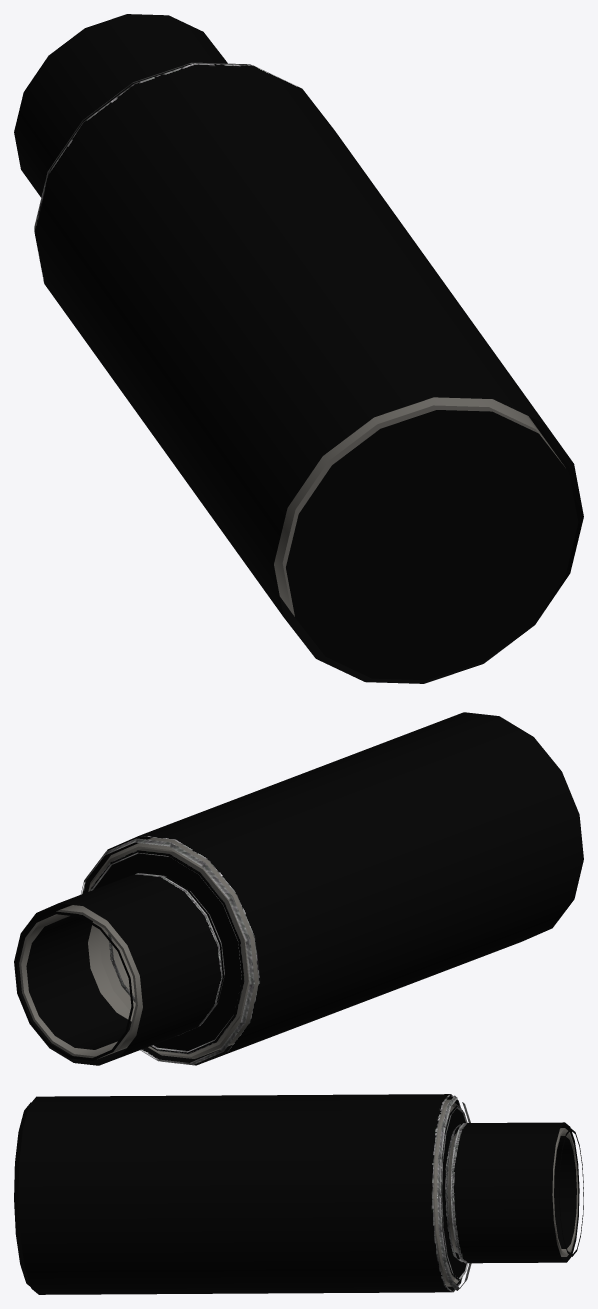
File: exhaust.obj
The picture shows the model from 3 angles, top to bottom: view 1: azimuth 30°, elevation 25°; view 2: azimuth 150°, elevation 25°; view 3: azimuth 270°, elevation 25°; orthographic projection. The views are drawn at different scales.
Visible parts, largest first — view 1: Exhaust2, Exhaust1; view 2: Exhaust2, Exhaust1; view 3: Exhaust2, Exhaust1.
Part boxes in pixels (bbox=[...]): Exhaust2: bbox=[14, 14, 583, 683]; Exhaust1: bbox=[274, 397, 565, 616]; Exhaust2: bbox=[14, 712, 583, 1065]; Exhaust1: bbox=[19, 837, 258, 1059]; Exhaust2: bbox=[14, 1094, 583, 1294]; Exhaust1: bbox=[433, 1099, 578, 1286].
Size of the model in its own units: 0.9602 by 0.8386 by 2.04.
Materials: 2 (1 with a texture image).
